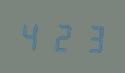four: (18, 18, 46, 52)
three: (77, 20, 105, 54)
two: (48, 19, 76, 53)
